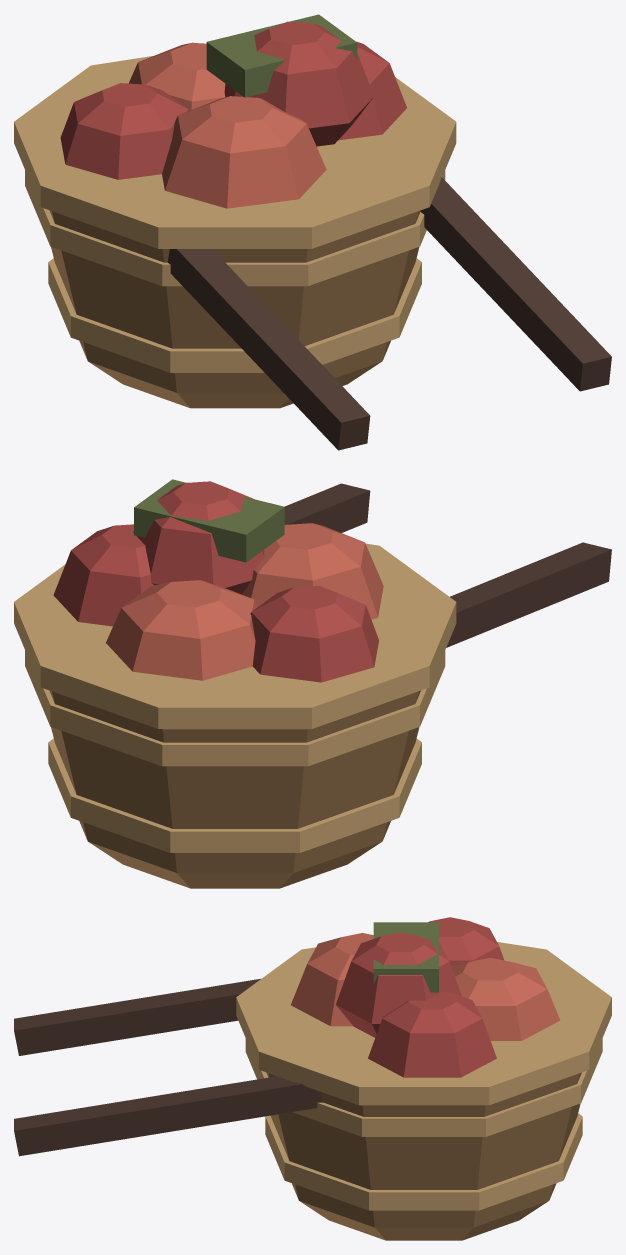
The model's file is Survact-carga-comida-v01.glb.
3 views of the same model, one above another, from view 1: azimuth 30°, elevation 25°; view 2: azimuth 150°, elevation 25°; view 3: azimuth 270°, elevation 25° (orthographic). The views are drawn at different scales.
Visible parts, largest first — view 1: FoodLoad; view 2: FoodLoad; view 3: FoodLoad.
Boxes of the visible parts, left/top/right/bottom form: FoodLoad: left=14, top=14, right=611, bottom=450; FoodLoad: left=14, top=479, right=611, bottom=888; FoodLoad: left=14, top=917, right=611, bottom=1240.
Bounding box in the file's own units: 0.3123 × 0.255 × 0.5047.
